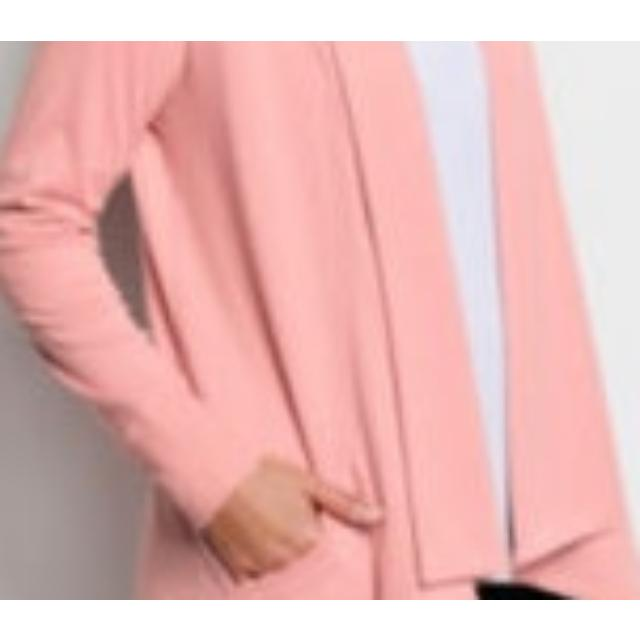polyester: (1, 41, 594, 596)
